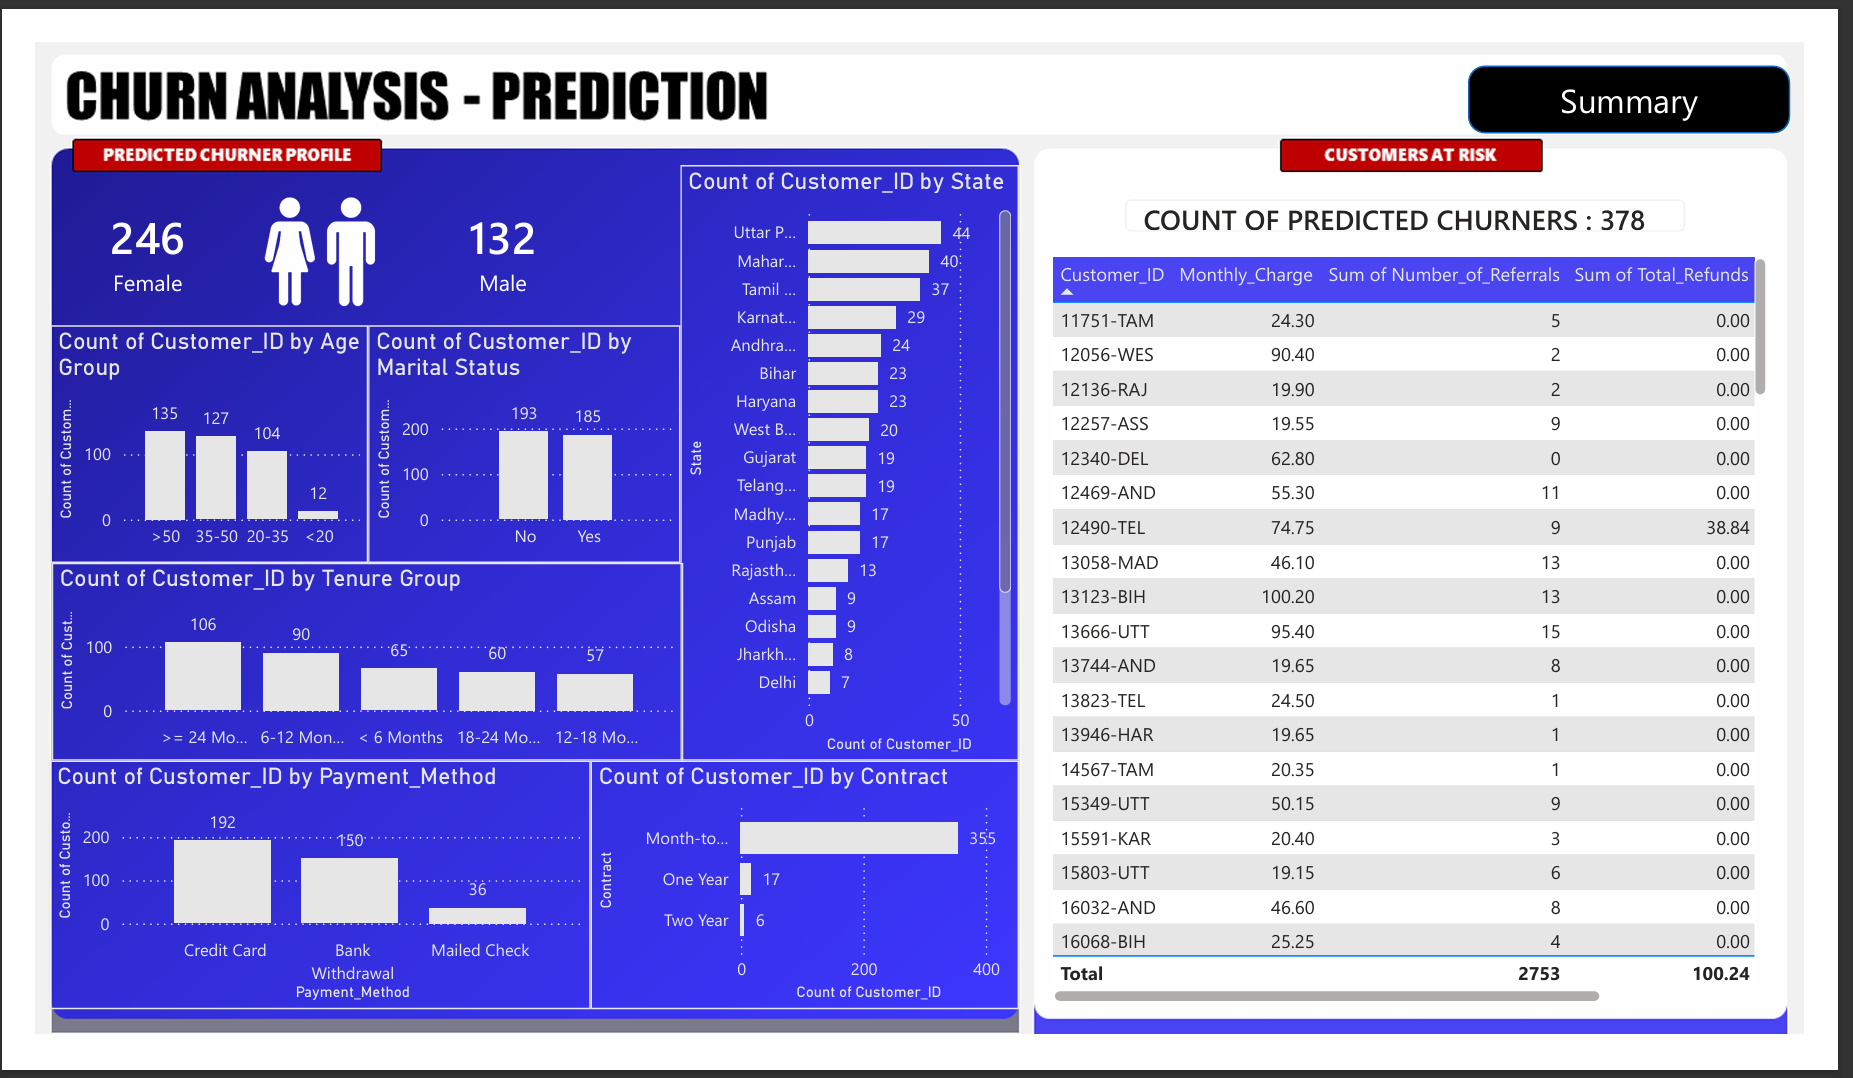

The dashboard page shown, as its layout file describes it:
{"tool":"powerbi","page":{"name":"Churn Prediction","canvas":[1280,720],"ordinal":2},"visuals":[{"type":"tableEx","fields":{"Values":["Prediction_Model.Customer_ID","Prediction_Model.Monthly_Charge","Sum(Prediction_Model.Number_of_Referrals)","Sum(Prediction_Model.Total_Refunds)","Sum(Prediction_Model.Total_Revenue)"]},"box":[731.3,150.6,526.5,549.4],"z":0},{"type":"cardVisual","fields":{"Data":["table measure.Title Predicted Churner"]},"box":[772,97,439,57],"z":1000},{"type":"cardVisual","fields":{"Data":["table measure.Count Predicted Churner"]},"box":[12,101.2,138.6,100],"z":2000},{"type":"cardVisual","fields":{"Data":["table measure.Count Predicted Churner"]},"box":[261.4,101.2,154.2,100],"z":3000},{"type":"clusteredColumnChart","fields":{"Category":["mapping_AgeGrp.Age Group"],"Y":["CountNonNull(Prediction_Model.Customer_ID)"]},"box":[10.8,204.8,230.1,172.3],"z":4000},{"type":"clusteredColumnChart","fields":{"Category":["Prediction_Model.Married"],"Y":["CountNonNull(Prediction_Model.Customer_ID)"]},"box":[241,204.8,226.5,172.3],"z":5000},{"type":"clusteredColumnChart","fields":{"Category":["mapping_TenureGrp.Tenure Group"],"Y":["CountNonNull(Prediction_Model.Customer_ID)"]},"box":[12,377.1,456.6,143.4],"z":6000},{"type":"clusteredBarChart","fields":{"Category":["Prediction_Model.Contract"],"Y":["CountNonNull(Prediction_Model.Customer_ID)"]},"box":[402.4,520.5,309.6,179.5],"z":7000},{"type":"clusteredBarChart","fields":{"Category":["Prediction_Model.State"],"Y":["CountNonNull(Prediction_Model.Customer_ID)"]},"box":[467.5,89.2,244.6,431.3],"z":8000},{"type":"clusteredColumnChart","fields":{"Category":["Prediction_Model.Payment_Method"],"Y":["CountNonNull(Prediction_Model.Customer_ID)"]},"box":[9.6,520.5,392.8,179.5],"z":9000},{"type":"image","box":[151.8,101.2,108.4,100],"z":9001},{"type":"shape","box":[1037.3,16.9,232.5,49.4],"z":9002}]}

Visuals, with their boxes on the page's 1280x720 design canvas (x1, y1, x2, y2). These are canvas units, not pixel positions in the 1853x1078 screenshot, which may show the page scaled, cropped or inside an application window:
tableEx - Prediction_Model.Customer_ID x Prediction_Model.Monthly_Charge: 731:151:1258:700
cardVisual - table measure.Title Predicted Churner: 772:97:1211:154
cardVisual - table measure.Count Predicted Churner: 12:101:151:201
cardVisual - table measure.Count Predicted Churner: 261:101:416:201
clusteredColumnChart - mapping_AgeGrp.Age Group x CountNonNull(Prediction_Model.Customer_ID): 11:205:241:377
clusteredColumnChart - Prediction_Model.Married x CountNonNull(Prediction_Model.Customer_ID): 241:205:468:377
clusteredColumnChart - mapping_TenureGrp.Tenure Group x CountNonNull(Prediction_Model.Customer_ID): 12:377:469:520
clusteredBarChart - Prediction_Model.Contract x CountNonNull(Prediction_Model.Customer_ID): 402:520:712:700
clusteredBarChart - Prediction_Model.State x CountNonNull(Prediction_Model.Customer_ID): 468:89:712:520
clusteredColumnChart - Prediction_Model.Payment_Method x CountNonNull(Prediction_Model.Customer_ID): 10:520:402:700
image: 152:101:260:201
shape: 1037:17:1270:66
